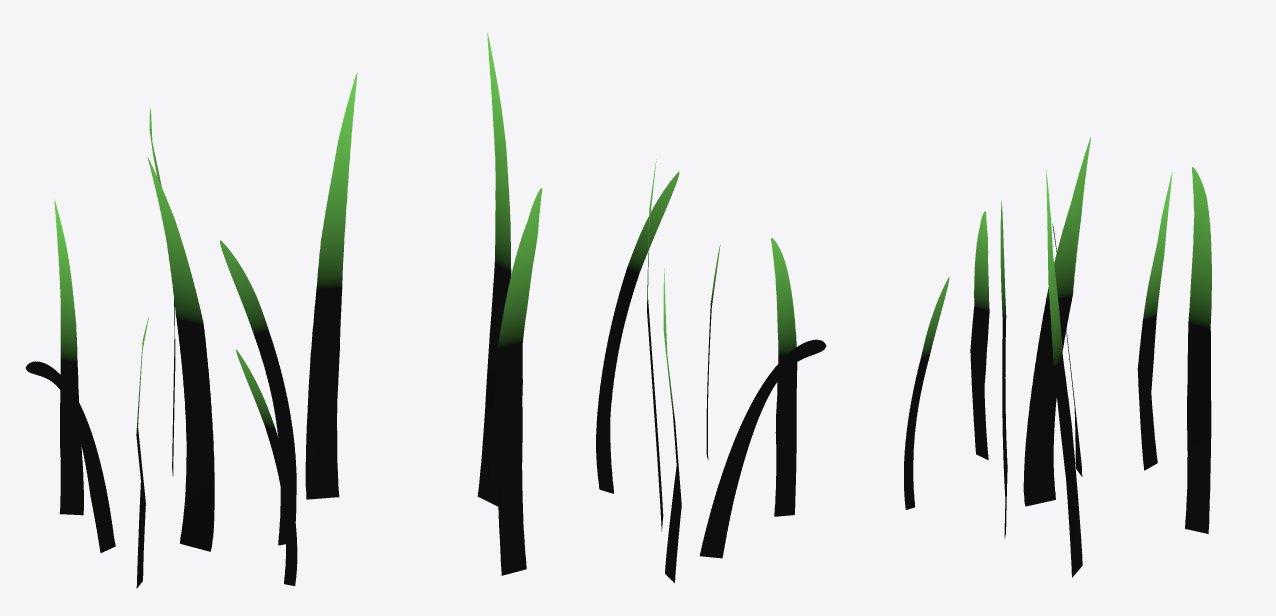
File: Grass0.fbx
3 renders of one model, left to right at view 1: azimuth 30°, elevation 25°; view 2: azimuth 150°, elevation 25°; view 3: azimuth 270°, elevation 25°, orthographic. The views are drawn at different scales.
Parts seen in each view (by area): view 1: Grass0; view 2: Grass0; view 3: Grass0.
Part boxes in pixels (x1,y1,x2,y2): Grass0: (25, 72, 357, 588); Grass0: (477, 32, 826, 582); Grass0: (904, 137, 1211, 577).
Bounding box in the file's own units: 14.88 × 16.06 × 13.51.
